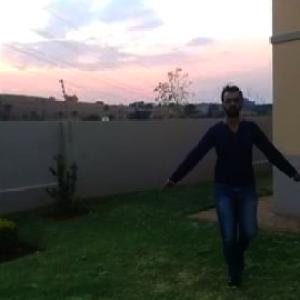land: (160, 94, 297, 269)
